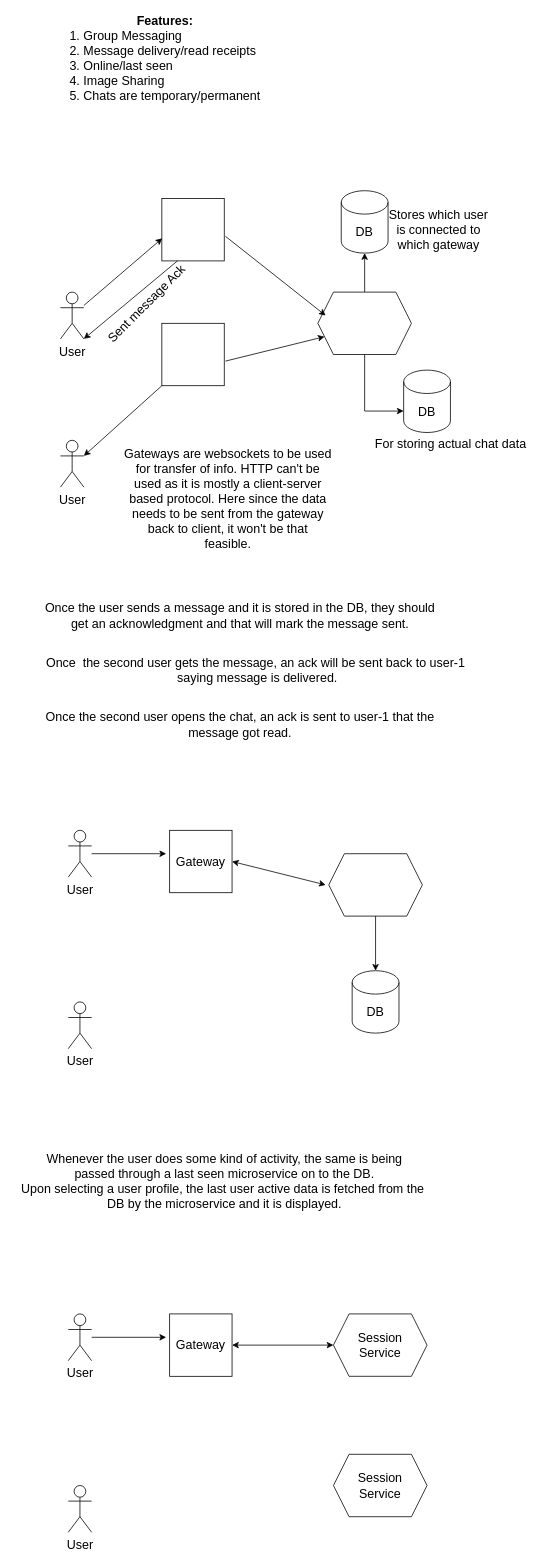
This 549x1566 diagram has some shape labels left out. Here are the shapes that lost their labels. From the top down, the centre of each, then its label:
(192,229): Gateway1
(364,323): Sessions Microservice (N number)
(192,354): Gateway2
(375,884): Last seen service
